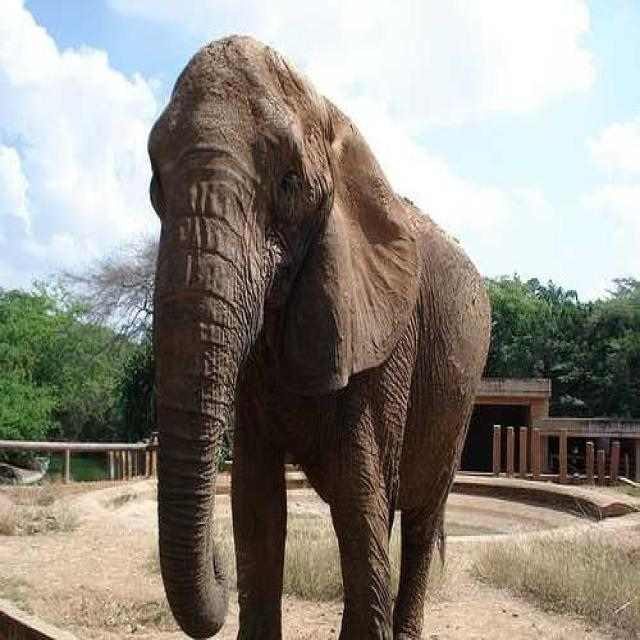Elephant: (146, 31, 493, 638)
